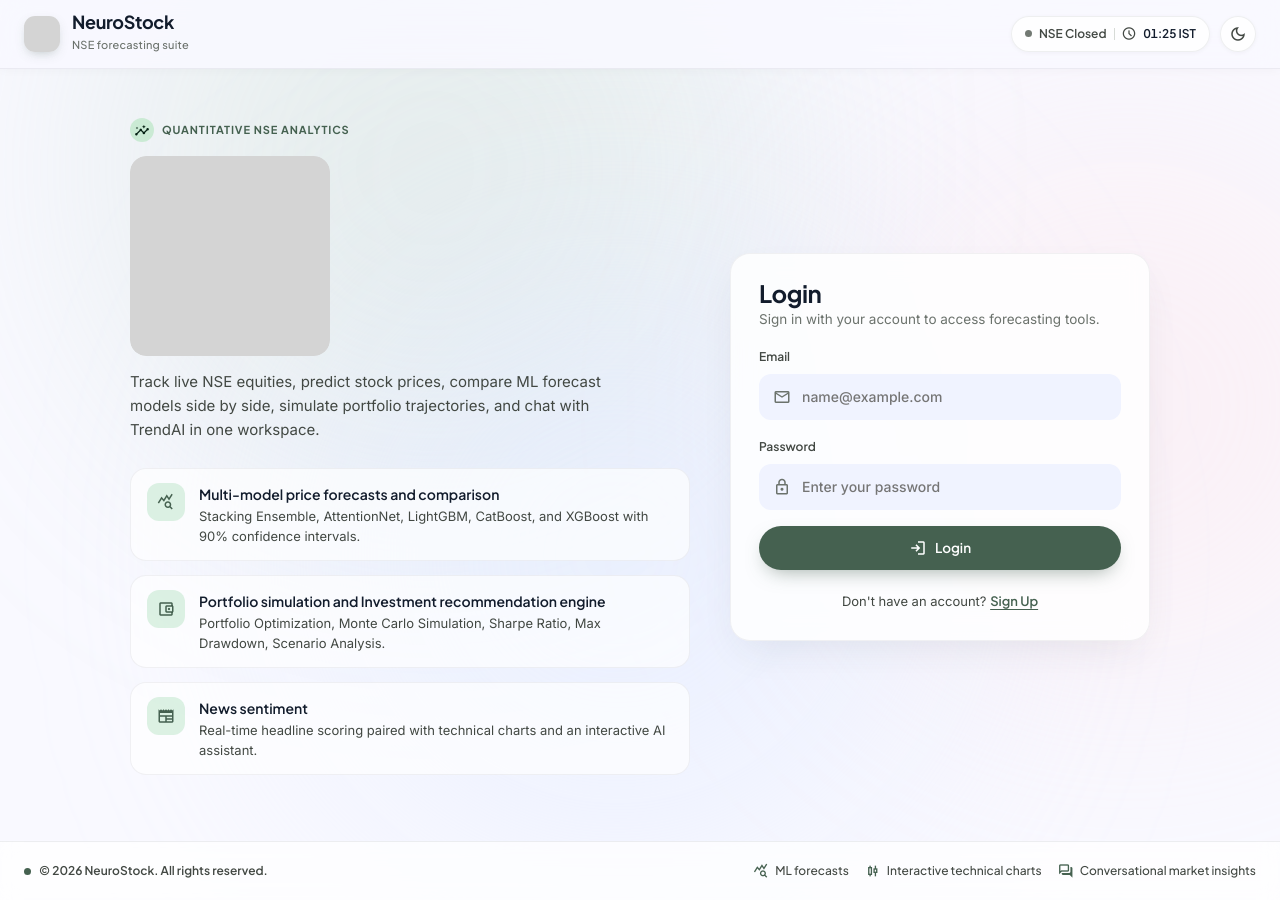
Scenario: renders NeuroStock brand header and login view when unauthenticated
Check: the text "NeuroStock" is shown, box [72, 12, 189, 33]
Check: the heading "Login" is shown, box [759, 278, 821, 308]
Click the button "Sign Up" at x=1014, y=601, box [990, 590, 1038, 612]
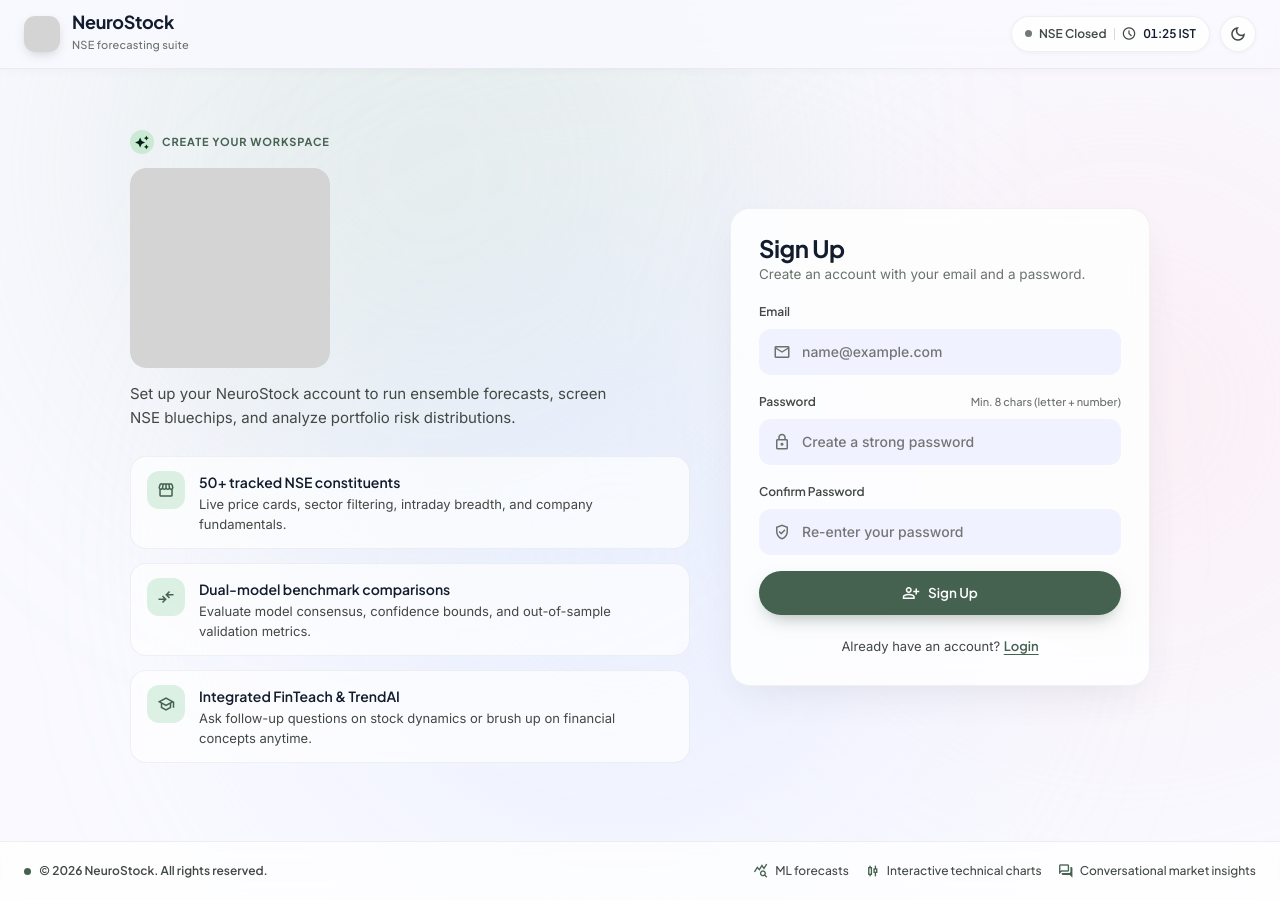
Check: the heading "Sign Up" is shown, box [759, 233, 845, 263]
